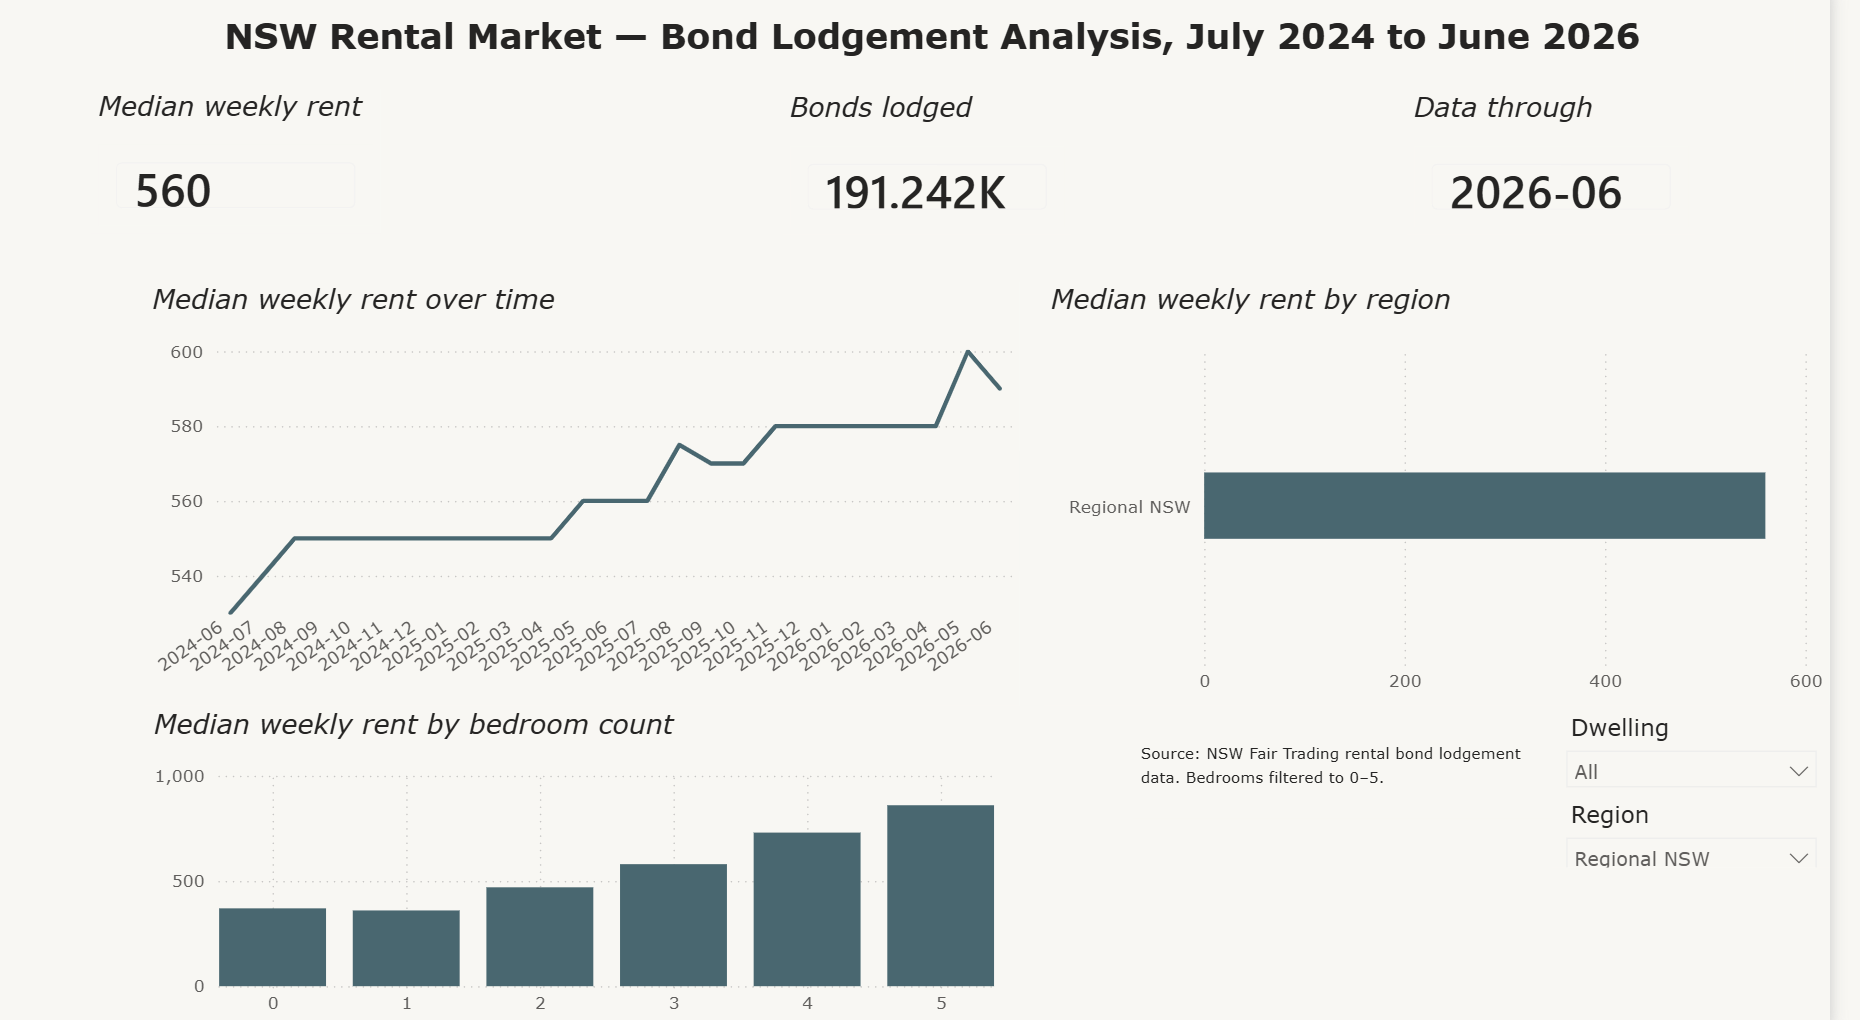

This screenshot's page, from the dashboard's own definition file:
{"tool":"powerbi","page":{"name":"Page 1","canvas":[1280,720],"ordinal":0},"visuals":[{"type":"lineChart","title":"Median weekly rent over time","fields":{"Y":["Median(Data.Weekly Rent)"],"Category":["Data.Month"]},"box":[112.4,202.8,606,293.2],"z":0},{"type":"clusteredBarChart","title":"Median weekly rent by region","fields":{"Category":["Data.Region"],"Y":["Median(Data.Weekly Rent)"]},"box":[734.9,202.7,544.7,293.1],"z":1000},{"type":"cardVisual","title":"Median weekly rent","fields":{"Data":["Median(Data.Weekly Rent)"]},"box":[75,69,200.5,100],"z":2000},{"type":"cardVisual","title":"Bonds lodged","fields":{"Data":["CountNonNull(Data.Weekly Rent)"]},"box":[553.9,69.5,200,100],"z":3000},{"type":"cardVisual","title":"Data through","fields":{"Data":["Max(Data.Month)"]},"box":[986.1,69.5,200,100],"z":4000},{"type":"clusteredColumnChart","title":"Median weekly rent by bedroom count","fields":{"Category":["Data.Bedrooms"],"Y":["Median(Data.Weekly Rent)"]},"box":[113.6,497.1,592.1,222.5],"z":5000},{"type":"slicer","fields":{"Values":["Data.Region"]},"box":[1086.9,556.2,193.5,52.1],"z":6000},{"type":"slicer","fields":{"Values":["Data.Dwelling"]},"box":[1086.9,495.9,193.5,60.3],"z":7000},{"type":"textbox","box":[162.2,11.4,1093.5,57.2],"z":8000},{"type":"textbox","box":[797.3,514.5,290,59.3],"z":8001}]}

Visuals, with their boxes in screenshot pixels (x1, y1, x2, y2), scaled from the page's 1280x720 canvas onto the 1860x1020 screenshot:
"Median weekly rent over time" lineChart: (x1=163, y1=287, x2=1044, y2=703)
"Median weekly rent by region" clusteredBarChart: (x1=1068, y1=287, x2=1859, y2=702)
"Median weekly rent" cardVisual: (x1=109, y1=98, x2=400, y2=239)
"Bonds lodged" cardVisual: (x1=805, y1=98, x2=1096, y2=240)
"Data through" cardVisual: (x1=1433, y1=98, x2=1724, y2=240)
"Median weekly rent by bedroom count" clusteredColumnChart: (x1=165, y1=704, x2=1025, y2=1019)
slicer - Data.Region: (x1=1579, y1=788, x2=1859, y2=862)
slicer - Data.Dwelling: (x1=1579, y1=703, x2=1859, y2=788)
textbox: (x1=236, y1=16, x2=1825, y2=97)
textbox: (x1=1159, y1=729, x2=1580, y2=813)
